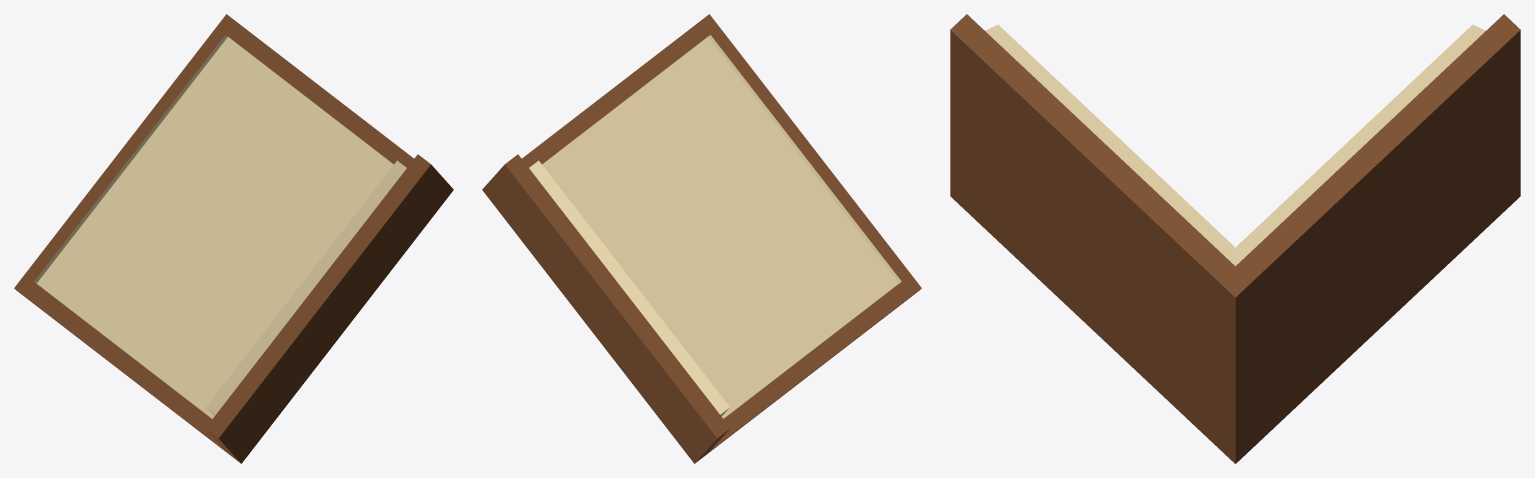
Rendered from book.glb.
3 renders of one model, left to right at view 1: azimuth 30°, elevation 25°; view 2: azimuth 150°, elevation 25°; view 3: azimuth 270°, elevation 25°, orthographic. The views are drawn at different scales.
Parts seen in each view (by area): view 1: Book; view 2: Book; view 3: Book.
Boxes of the visible parts, x1,y1,x2,y2 form: Book: (14,14,453,463); Book: (482,14,921,463); Book: (950,14,1520,463).
Bounding box in the file's own units: 0.6451 × 0.6451 × 0.6601.
